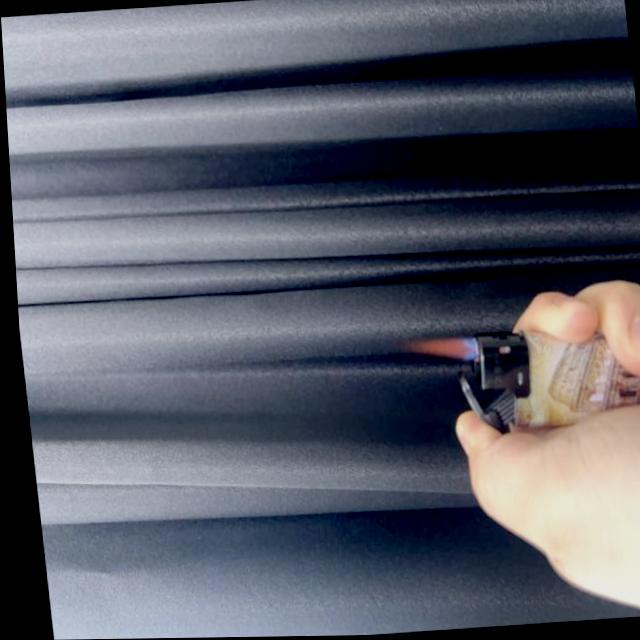Fire: (401, 332, 475, 365)
